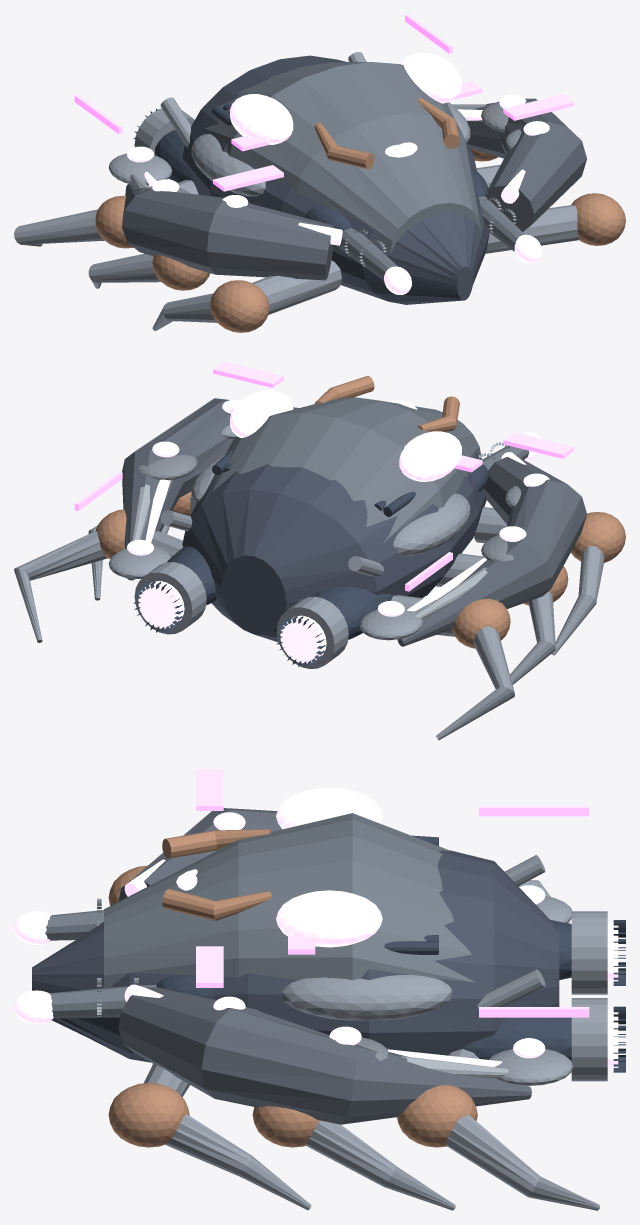
The model's file is npc_voidCorsair.glb.
The picture shows the model from 3 angles, top to bottom: view 1: azimuth 30°, elevation 25°; view 2: azimuth 150°, elevation 25°; view 3: azimuth 270°, elevation 25°; orthographic projection. The views are drawn at different scales.
Visible parts, largest first — view 1: upper_armor_scar, armored_scythe_-1, keel_pressure_hull, armored_scythe_1, V59 trim baked, vrx_spider_leg_-1_0, vrx_joint_-1_0, vrx_venom_cell_-1, vrx_spider_leg_-1_2, vrx_joint_1_0, vrx_venom_cell_1, heavy_shield_pad_-1 (+18 smaller); view 2: keel_pressure_hull, upper_armor_scar, armored_scythe_-1, armored_scythe_1, V59 trim baked, vrx_spider_leg_1_2, vrx_spider_leg_-1_2, vrx_spider_leg_-1_0, heavy_shield_pad_-1, vrx_venom_cell_-1, vrx_spider_leg_-1_1, exhaust_coil_-1 (+21 smaller); view 3: upper_armor_scar, keel_pressure_hull, armored_scythe_1, heavy_shield_pad_1, V59 trim baked, vrx_venom_cell_1, vrx_spider_leg_1_2, vrx_spider_leg_1_0, vrx_joint_1_0, vrx_spider_leg_1_1, vrx_joint_1_2, exhaust_coil_-1 (+22 smaller).
Boxes of the visible parts, x1,y1,x2,y2 form: upper_armor_scar: (202, 62, 481, 253); armored_scythe_-1: (122, 184, 334, 280); keel_pressure_hull: (182, 55, 489, 304); armored_scythe_1: (467, 98, 586, 231); V59 trim baked: (74, 14, 574, 191); vrx_spider_leg_-1_0: (152, 260, 341, 330); vrx_joint_-1_0: (210, 280, 269, 332); vrx_venom_cell_-1: (230, 94, 293, 144); vrx_spider_leg_-1_2: (14, 180, 198, 246); vrx_joint_1_0: (571, 193, 625, 245); vrx_venom_cell_1: (400, 53, 461, 103); heavy_shield_pad_-1: (191, 134, 265, 196); keel_pressure_hull: (182, 450, 486, 642); upper_armor_scar: (199, 397, 481, 542); armored_scythe_-1: (397, 456, 586, 646); armored_scythe_1: (122, 398, 298, 580); V59 trim baked: (74, 361, 574, 591); vrx_spider_leg_1_2: (14, 531, 182, 642); vrx_spider_leg_-1_2: (391, 595, 514, 740); vrx_spider_leg_-1_0: (474, 507, 604, 655); heavy_shield_pad_-1: (393, 493, 470, 555); vrx_venom_cell_-1: (399, 431, 461, 481); vrx_spider_leg_-1_1: (435, 553, 555, 684); exhaust_coil_-1: (276, 596, 348, 668); upper_armor_scar: (104, 813, 475, 988); keel_pressure_hull: (32, 850, 559, 1062); armored_scythe_1: (118, 987, 531, 1124); heavy_shield_pad_1: (282, 975, 452, 1020); V59 trim baked: (196, 769, 589, 1017); vrx_venom_cell_1: (276, 890, 382, 947); vrx_spider_leg_1_2: (445, 1049, 599, 1210); vrx_spider_leg_1_0: (144, 1063, 311, 1210); vrx_joint_1_0: (108, 1083, 189, 1147); vrx_spider_leg_1_1: (306, 1120, 455, 1210); vrx_joint_1_2: (397, 1085, 477, 1147); exhaust_coil_-1: (571, 911, 607, 994).
Size of the model in its own units: 3.2 by 1.24 by 2.71.
